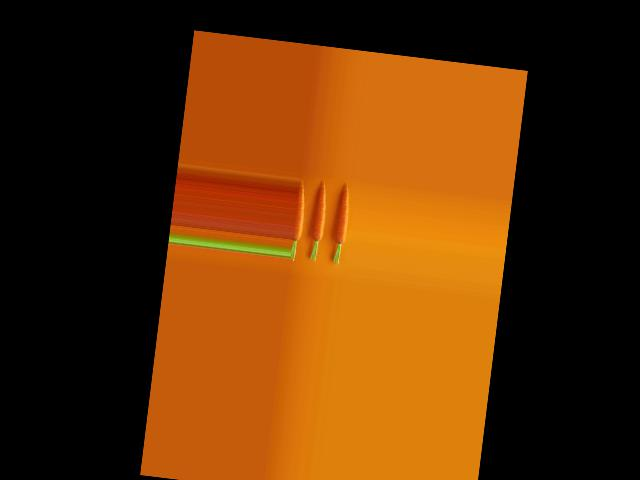carrot: (290, 189, 307, 263)
